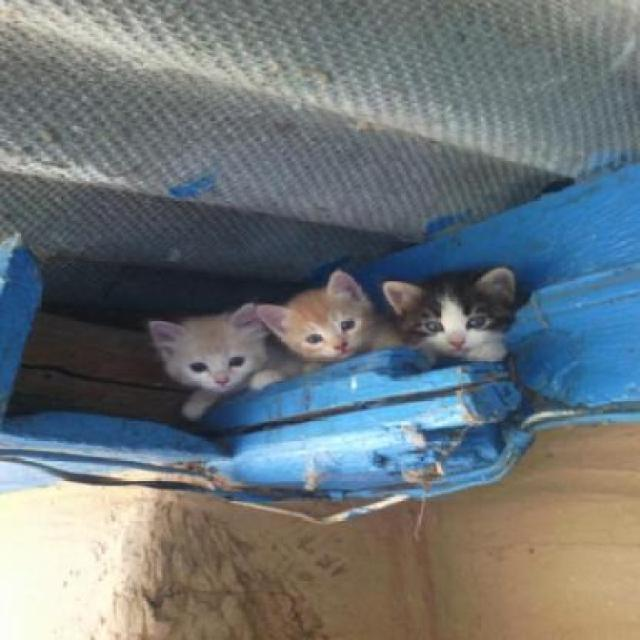cat: (132, 295, 263, 416), (379, 262, 533, 364), (253, 261, 364, 373)
